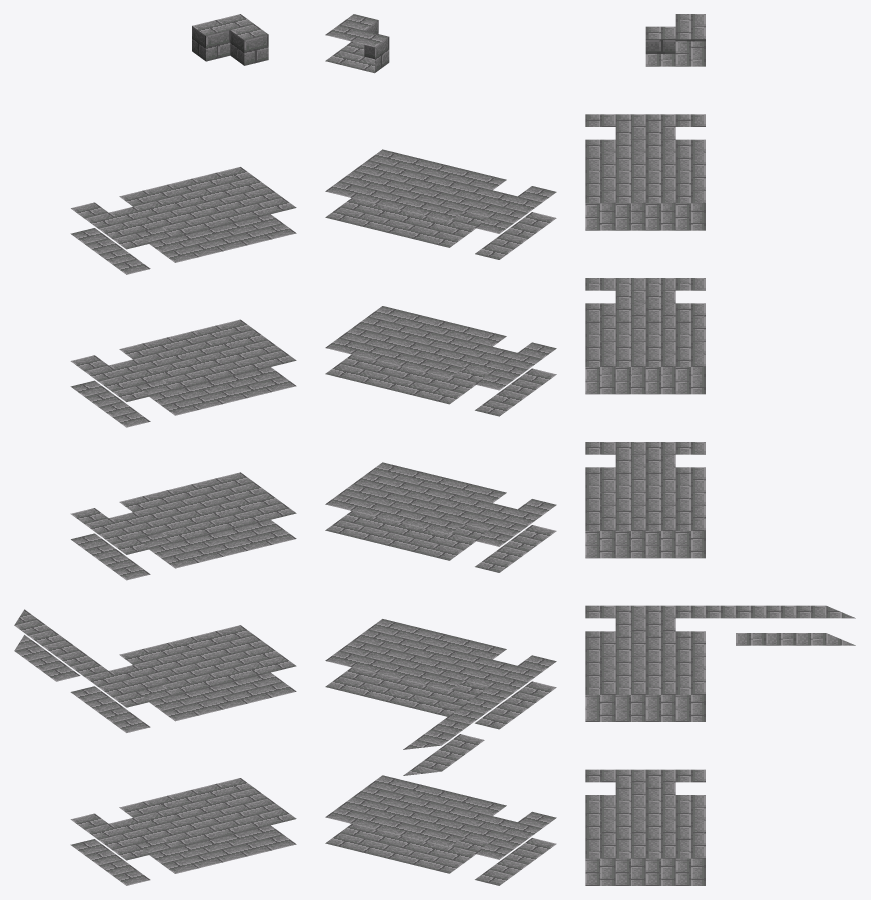
The model's file is Stone_Bricks_Chunk_5_19.fbx.
The picture shows the model from 3 angles, left to right: view 1: azimuth 30°, elevation 25°; view 2: azimuth 150°, elevation 25°; view 3: azimuth 270°, elevation 25°; orthographic projection. The views are drawn at different scales.
Visible parts, largest first — view 1: Stone_Bricks_Chunk_5_19; view 2: Stone_Bricks_Chunk_5_19; view 3: Stone_Bricks_Chunk_5_19.
Part boxes in pixels (bbox=[...]): Stone_Bricks_Chunk_5_19: bbox=[14, 14, 296, 885]; Stone_Bricks_Chunk_5_19: bbox=[325, 14, 556, 885]; Stone_Bricks_Chunk_5_19: bbox=[585, 14, 855, 885].
Size of the model in its own units: 700 by 3100 by 900.
Materials: 1 (1 with a texture image).
